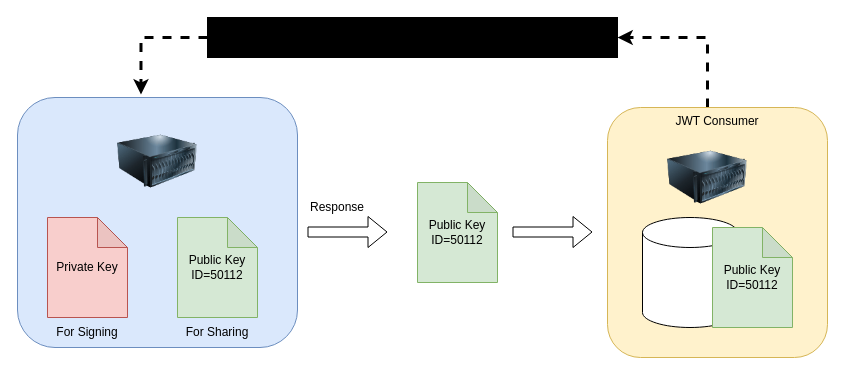
Some shapes in this 845 by 375 pixel diagram are drawn without their labels. Each missing label, with the box of its shape:
Cache: (642, 216, 738, 328)
HTTP GET https://server.com/.well-known/jwks.json: (206, 16, 618, 58)
JWT Service (with JWKS Support): (16, 96, 298, 348)
